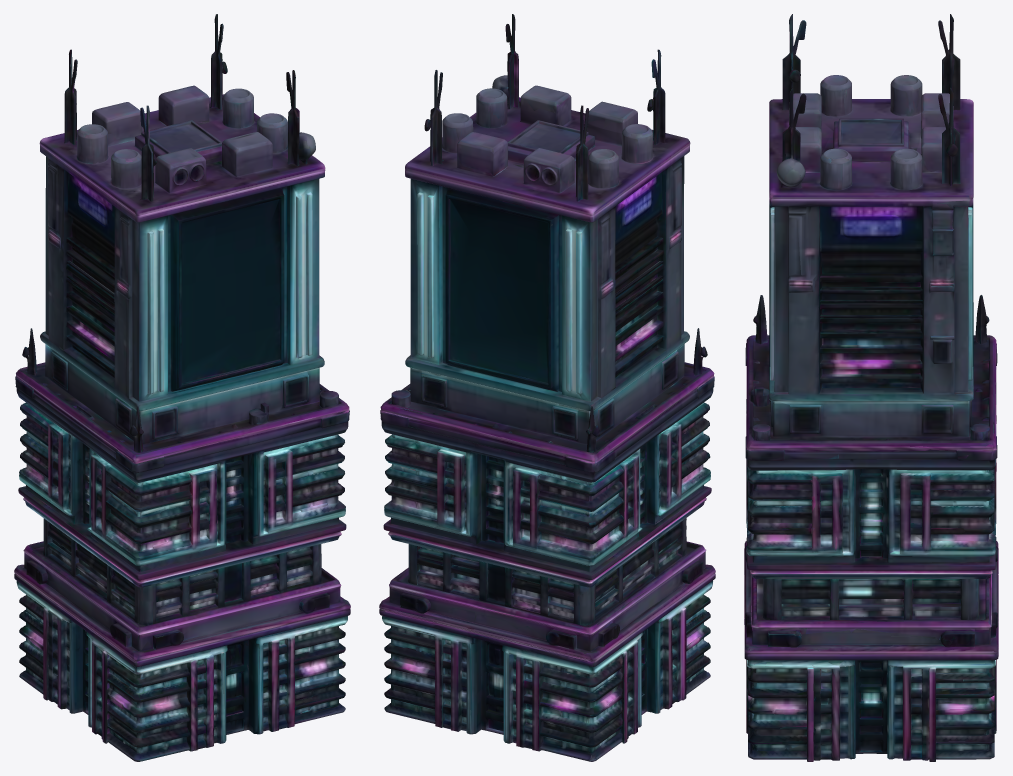
Rendered from tower-a.glb.
The picture shows the model from 3 angles, left to right: view 1: azimuth 30°, elevation 25°; view 2: azimuth 150°, elevation 25°; view 3: azimuth 270°, elevation 25°; orthographic projection. The views are drawn at different scales.
Visible parts, largest first — view 1: material; view 2: material; view 3: material.
Part boxes in pixels (bbox=[...]): material: bbox=[14, 14, 350, 761]; material: bbox=[379, 14, 715, 761]; material: bbox=[744, 14, 998, 761].
Bounding box in the file's own units: 0.3907 × 1.09 × 0.3815.
1 material, 1 textured.
